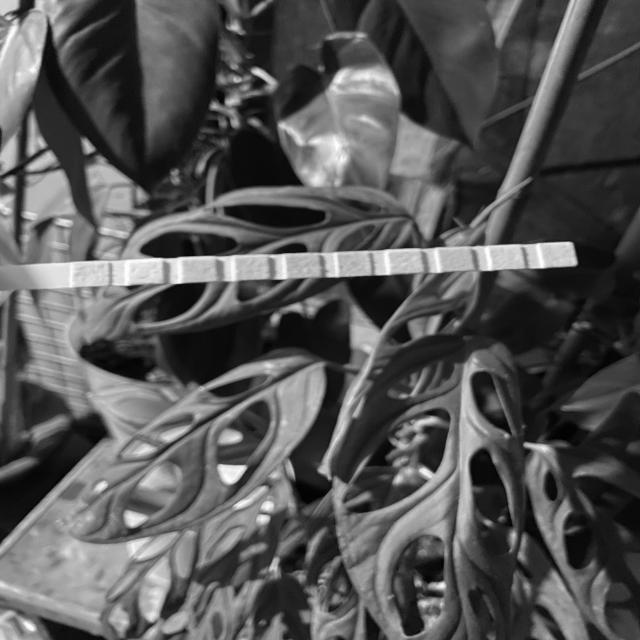Bilirubin: (130, 260, 164, 284)
Blood: (286, 254, 320, 278)
Glucose: (74, 262, 108, 286)
Ketone: (183, 258, 217, 282)
Leukocytes: (544, 243, 572, 266)
Nitrite: (493, 246, 521, 268)
Protein: (388, 250, 422, 272)
SpGravity: (235, 256, 269, 280)
Urobilinogen: (442, 248, 469, 270)
background: (0, 0, 640, 640)
pH: (338, 252, 369, 275)
strip: (0, 242, 577, 290)
